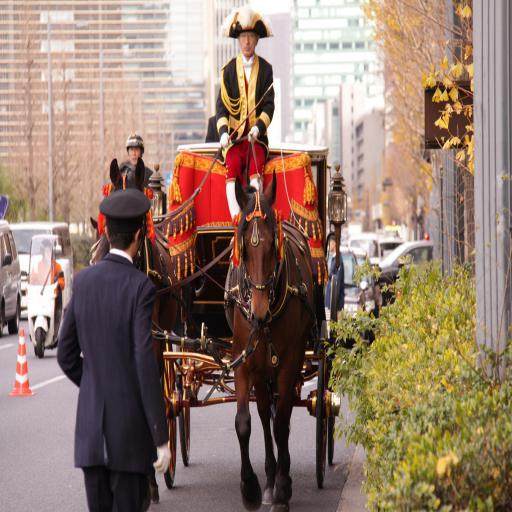Horse: (221, 168, 314, 512)
